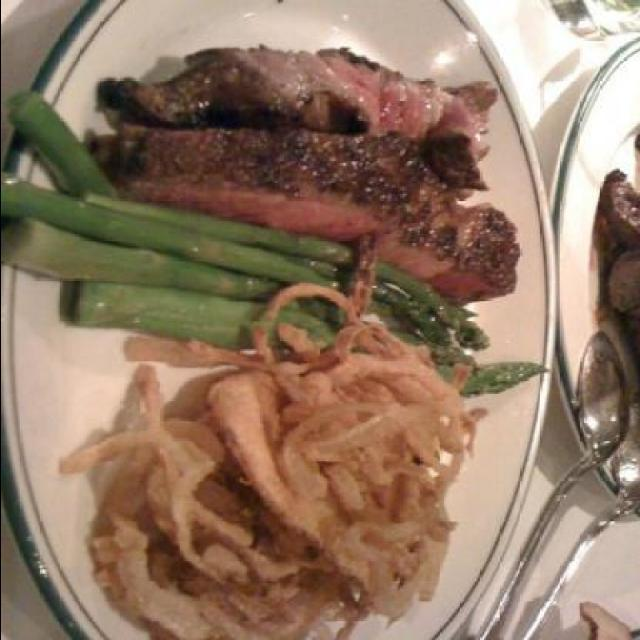Steak: (109, 43, 546, 294)
